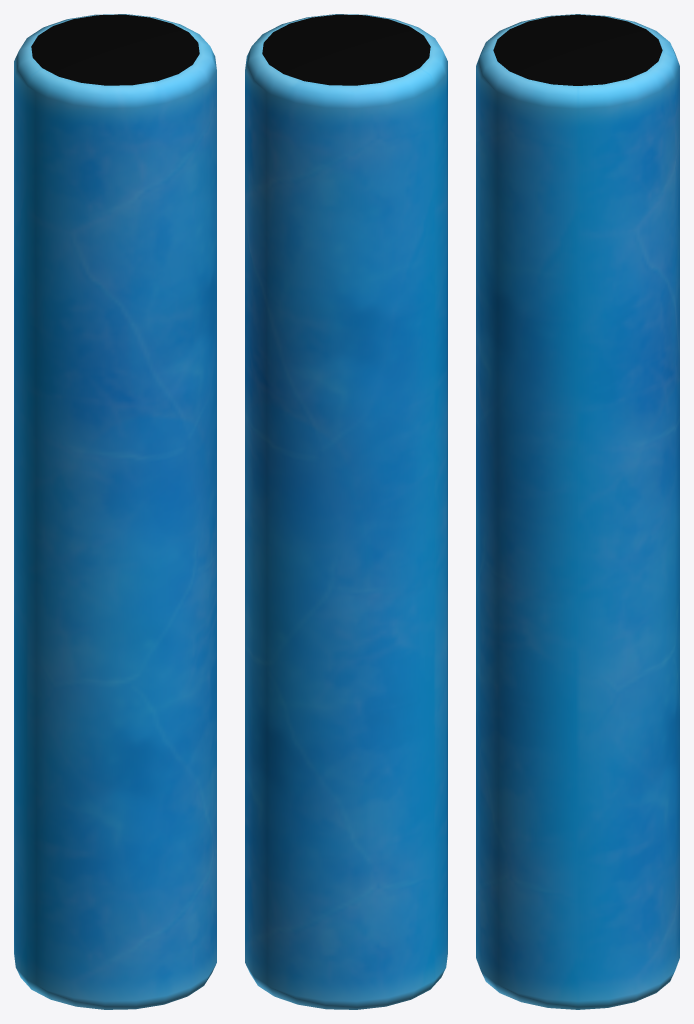
3 renders of one model, left to right at view 1: azimuth 30°, elevation 25°; view 2: azimuth 150°, elevation 25°; view 3: azimuth 270°, elevation 25°, orthographic.
Parts seen in each view (by area): view 1: 4059; view 2: 4059; view 3: 4059.
Boxes of the visible parts, bbox=[...] form: 4059: bbox=[14, 14, 216, 1009]; 4059: bbox=[245, 14, 447, 1009]; 4059: bbox=[476, 14, 679, 1009].
Size of the model in its own units: 1 by 4.99 by 1.
1 material, 1 textured.
